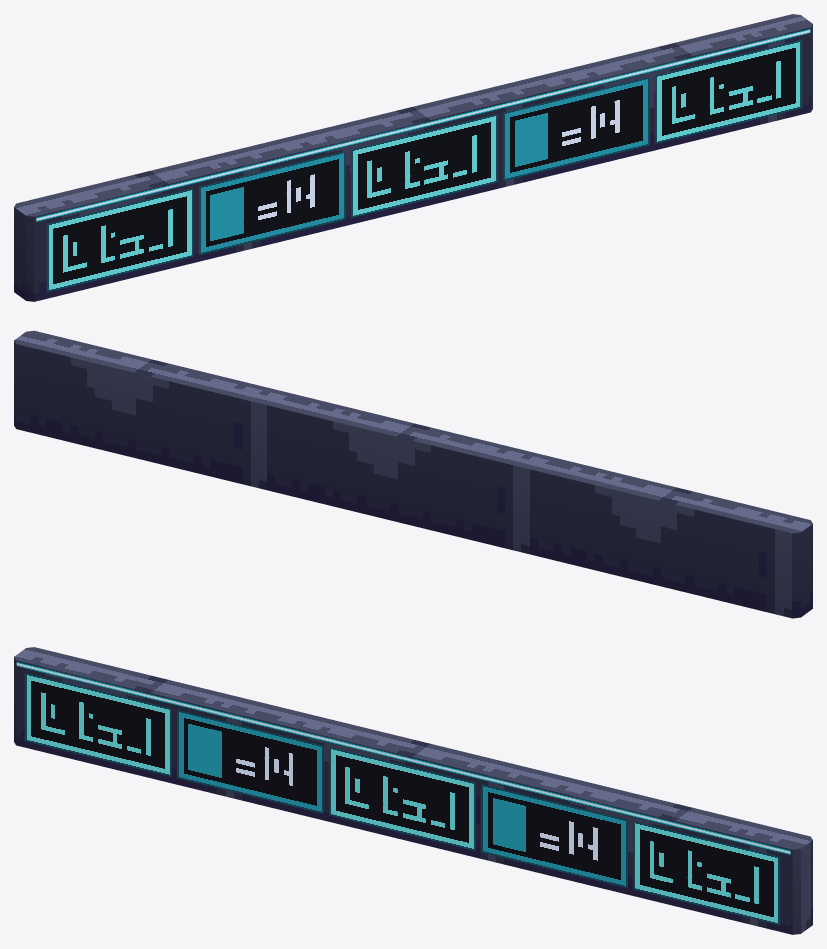
File: cysign.ticker.glb
3 views of the same model, one above another, from view 1: azimuth 30°, elevation 25°; view 2: azimuth 150°, elevation 25°; view 3: azimuth 330°, elevation 25° (orthographic).
Parts seen in each view (by area): view 1: kit_card_band, kit_housing; view 2: kit_housing; view 3: kit_card_band, kit_housing.
Boxes of the visible parts, bbox=[...] form: kit_card_band: bbox=[36, 28, 810, 292]; kit_housing: bbox=[14, 14, 812, 301]; kit_housing: bbox=[14, 330, 812, 618]; kit_card_band: bbox=[16, 661, 790, 925]; kit_housing: bbox=[14, 647, 812, 934].
Size of the model in its own units: 6 by 0.62 by 0.265.
Materials: 3 (3 with a texture image).
